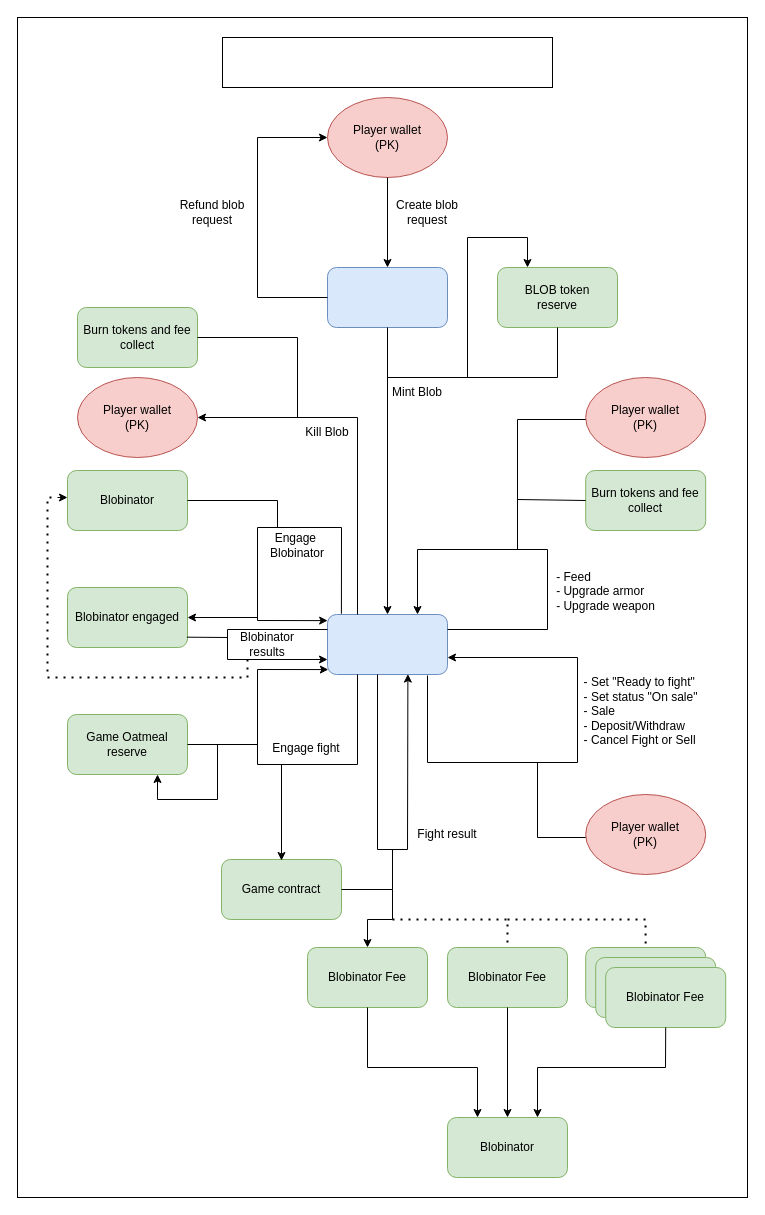
This 765x1215 diagram has some shape labels left out. The shapes that lost their labels are listed below. From the top down, each one's centre as x and y in pixels, then its label:
At pixel 387 62: "Blob's Topia smart contracts interactions".
At pixel 387 297: "Blob request".
At pixel 387 644: "Blob".
